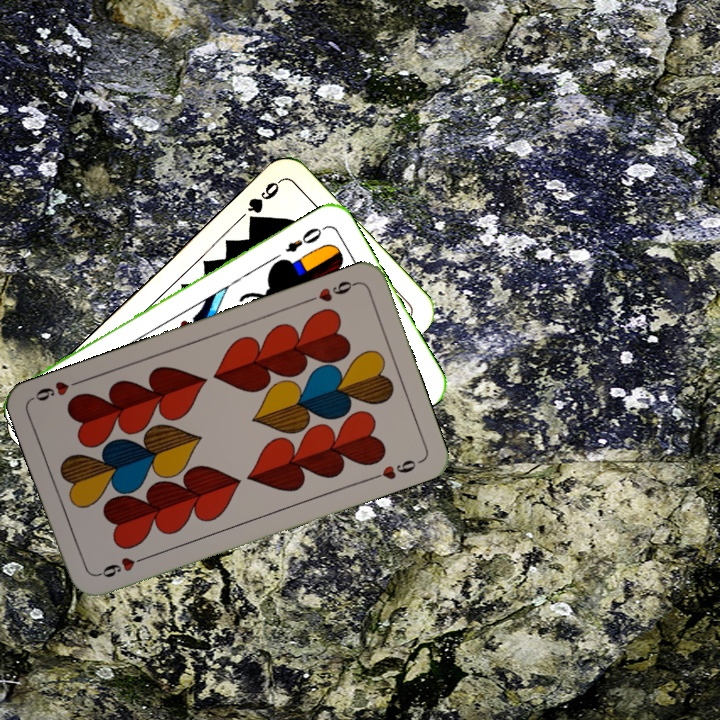EO: (281, 222, 329, 256)
G9: (243, 176, 284, 229)
H9: (303, 276, 360, 305), (92, 552, 150, 580)
